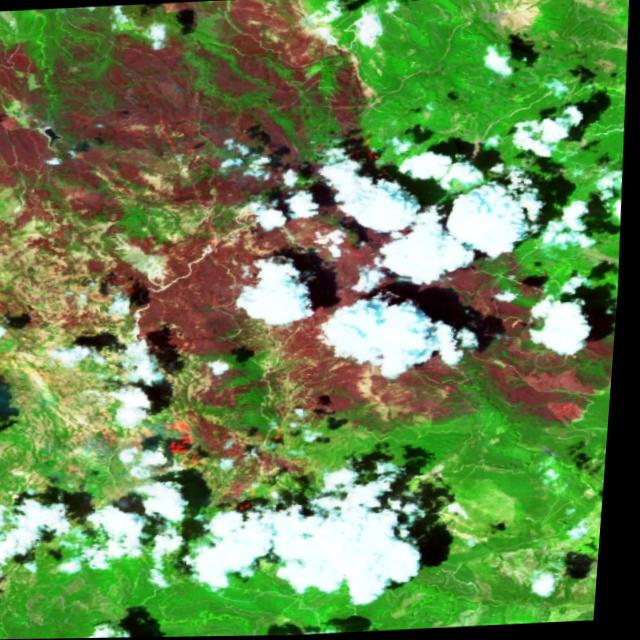fire: (158, 415, 217, 478), (346, 123, 396, 169), (283, 459, 329, 478), (272, 431, 301, 453), (234, 498, 263, 517)
